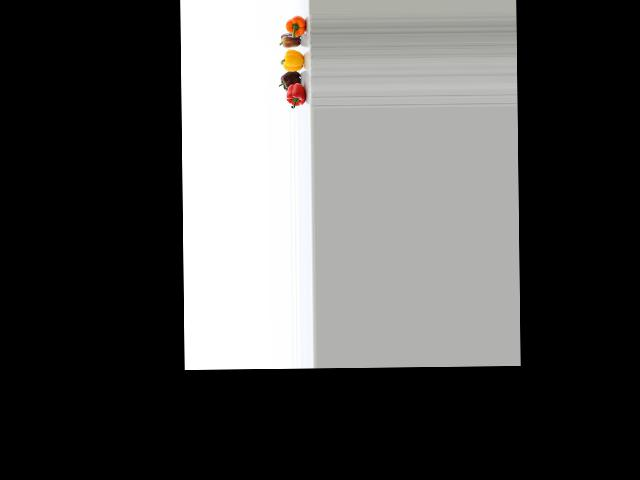bell_pepper: (279, 15, 308, 37)
